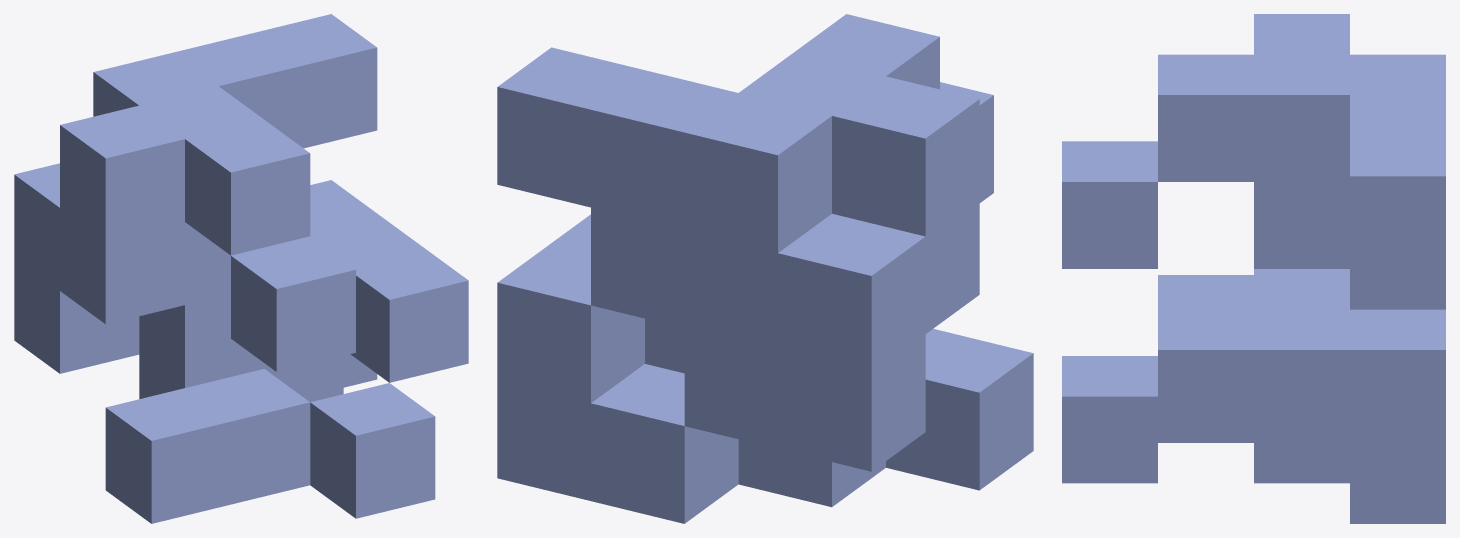
The picture shows the model from 3 angles, left to right: view 1: azimuth 30°, elevation 25°; view 2: azimuth 150°, elevation 25°; view 3: azimuth 270°, elevation 25°; orthographic projection. The views are drawn at different scales.
Parts seen in each view (by area): view 1: _changes.005; view 2: _changes.005; view 3: _changes.005.
Boxes of the visible parts, bbox=[...] form: _changes.005: bbox=[14, 14, 468, 523]; _changes.005: bbox=[497, 14, 1033, 523]; _changes.005: bbox=[1062, 14, 1445, 523].
Size of the model in its own units: 0.1041 by 0.1041 by 0.1041.
